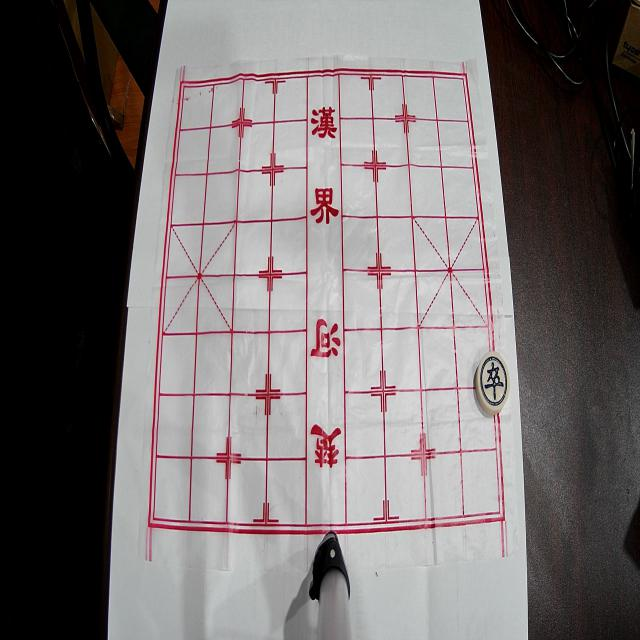black-soldier: (476, 351, 510, 415)
